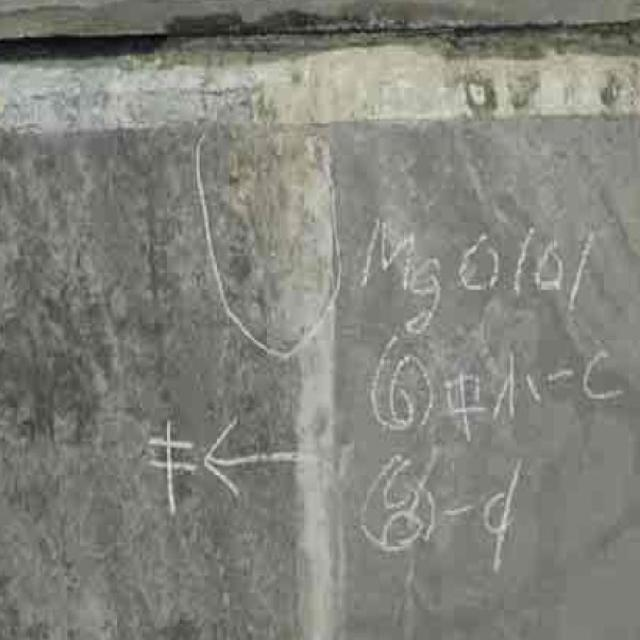freelime: (283, 181, 354, 636)
